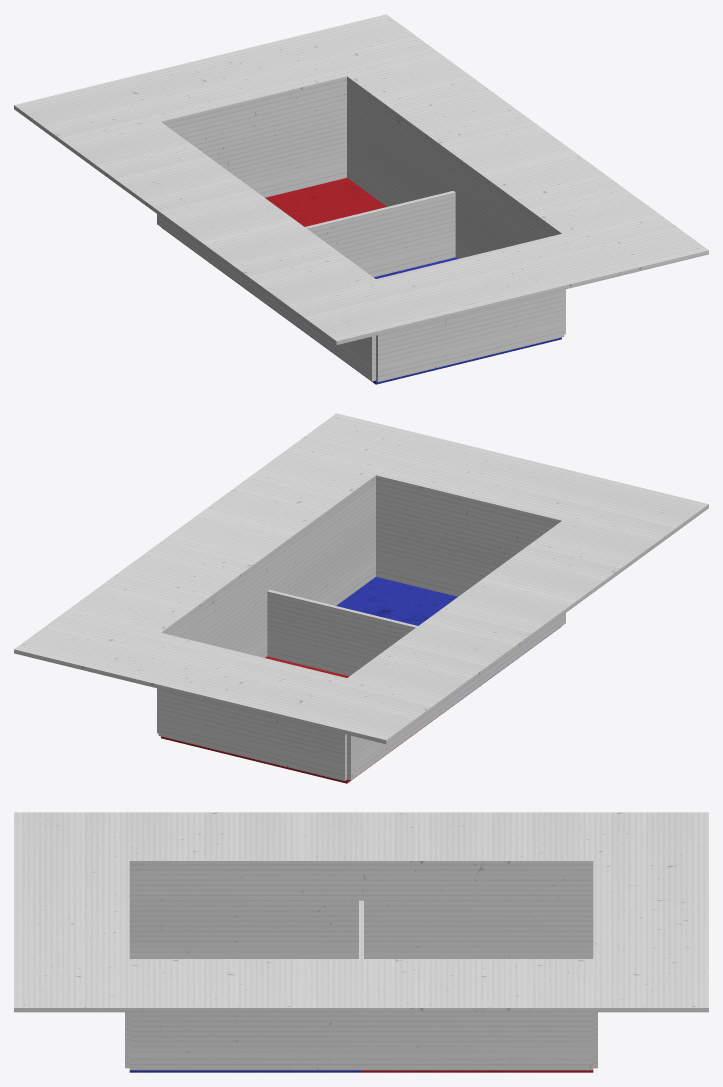
File: bin_24.dae
3 renders of one model, top to bottom at view 1: azimuth 30°, elevation 25°; view 2: azimuth 150°, elevation 25°; view 3: azimuth 270°, elevation 25°, orthographic. The views are drawn at different scales.
Parts seen in each view (by area): view 1: frame, red, blue; view 2: frame, blue, red; view 3: frame, red, blue.
Part boxes in pixels (x1,y1,x2,y2): frame: [14, 14, 708, 382]; red: [161, 178, 386, 305]; blue: [269, 257, 561, 384]; frame: [14, 413, 708, 781]; blue: [336, 577, 561, 704]; red: [161, 656, 453, 783]; frame: [14, 812, 708, 1070]; red: [361, 1070, 593, 1072]; blue: [129, 1070, 361, 1072].
Bounding box in the file's own units: 0.6096 × 0.9144 × 0.1651.
3 materials, 3 textured.
